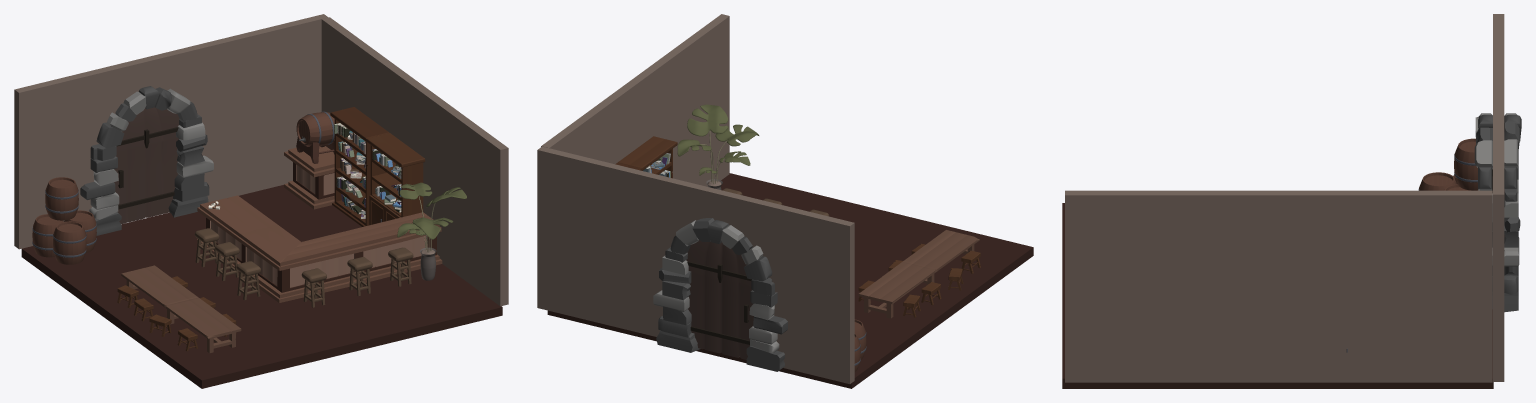
File: Scene1_Sketchfab.fbx
3 views of the same model, side by side, from view 1: azimuth 30°, elevation 25°; view 2: azimuth 150°, elevation 25°; view 3: azimuth 270°, elevation 25° (orthographic). The views are drawn at different scales.
Visible parts, largest first — view 1: floor:Floor, wall_with_stone_arch_door:polySurface2, Wall1:Wall3, Tavern_Counter_and_Barrel:Counter_Base1, wall_with_stone_arch_door:pCube35, Tavern_Counter_and_Barrel:Counter_Base, Long_Table:Long_Table, Bookshelf_Filled_With_Books2_copy:Bookshelf_1, Bookshelf_Bottom_Cabinet:Bookshelf_3, Tavern_Counter_and_Barrel:Counter_Base2, Barrel3:Barrel, Barrel2:Barrel (+18 smaller); view 2: wall_with_stone_arch_door:polySurface2, floor:Floor, Wall1:Wall3, wall_with_stone_arch_door:pCube35, Long_Table:Long_Table, Bookshelf_Bottom_Cabinet:Bookshelf_3, Potted_Plant1:leaf1, wall_with_stone_arch_door:pCube50, wall_with_stone_arch_door:pCube51, Potted_Plant1:leaf2, wall_with_stone_arch_door:pCube43, wall_with_stone_arch_door:pCube47 (+3 smaller); view 3: Wall1:Wall3, wall_with_stone_arch_door:polySurface2, floor:Floor, Barrel2:Barrel, Barrel3:Barrel, wall_with_stone_arch_door:pCube8, wall_with_stone_arch_door:pCube59.
Part boxes in pixels (bbox=[...]): floor:Floor: bbox=[21, 185, 502, 388]; wall_with_stone_arch_door:polySurface2: bbox=[14, 14, 328, 249]; Wall1:Wall3: bbox=[321, 17, 508, 306]; Tavern_Counter_and_Barrel:Counter_Base1: bbox=[197, 146, 441, 270]; wall_with_stone_arch_door:pCube35: bbox=[114, 107, 179, 223]; Tavern_Counter_and_Barrel:Counter_Base: bbox=[206, 162, 436, 292]; Long_Table:Long_Table: bbox=[121, 265, 241, 353]; Bookshelf_Filled_With_Books2_copy:Bookshelf_1: bbox=[330, 107, 389, 226]; Bookshelf_Bottom_Cabinet:Bookshelf_3: bbox=[366, 133, 425, 217]; Tavern_Counter_and_Barrel:Counter_Base2: bbox=[197, 180, 442, 302]; Barrel3:Barrel: bbox=[53, 221, 86, 264]; Barrel2:Barrel: bbox=[45, 177, 78, 220]; wall_with_stone_arch_door:polySurface2: bbox=[537, 146, 854, 383]; floor:Floor: bbox=[547, 173, 1033, 388]; Wall1:Wall3: bbox=[541, 14, 729, 186]; wall_with_stone_arch_door:pCube35: bbox=[686, 240, 753, 359]; Long_Table:Long_Table: bbox=[858, 230, 979, 318]; Bookshelf_Bottom_Cabinet:Bookshelf_3: bbox=[618, 136, 677, 178]; Potted_Plant1:leaf1: bbox=[687, 104, 728, 136]; wall_with_stone_arch_door:pCube50: bbox=[746, 346, 784, 371]; wall_with_stone_arch_door:pCube51: bbox=[656, 330, 700, 352]; Potted_Plant1:leaf2: bbox=[715, 124, 759, 146]; wall_with_stone_arch_door:pCube43: bbox=[743, 256, 772, 281]; wall_with_stone_arch_door:pCube47: bbox=[753, 316, 787, 334]; Wall1:Wall3: bbox=[1065, 190, 1492, 382]; wall_with_stone_arch_door:polySurface2: bbox=[1493, 14, 1504, 381]; floor:Floor: bbox=[1062, 203, 1493, 388]; Barrel2:Barrel: bbox=[1454, 138, 1478, 190]; Barrel3:Barrel: bbox=[1419, 172, 1456, 190]; wall_with_stone_arch_door:pCube8: bbox=[1474, 140, 1492, 169]; wall_with_stone_arch_door:pCube59: bbox=[1504, 139, 1518, 168].
Size of the model in its own units: 27.82 by 13.93 by 29.35.
Materials: 33 (33 with a texture image).
